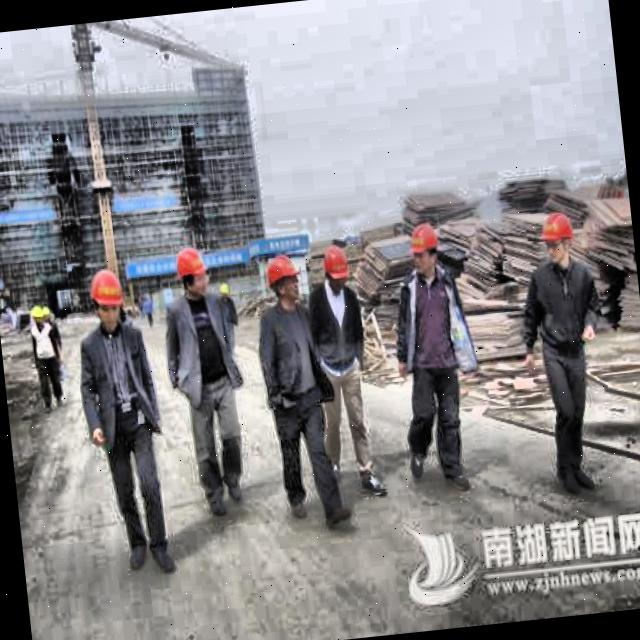helmet: (84, 266, 128, 334), (264, 253, 304, 311), (318, 240, 358, 298), (536, 210, 576, 266), (173, 242, 210, 302), (408, 218, 443, 277)
